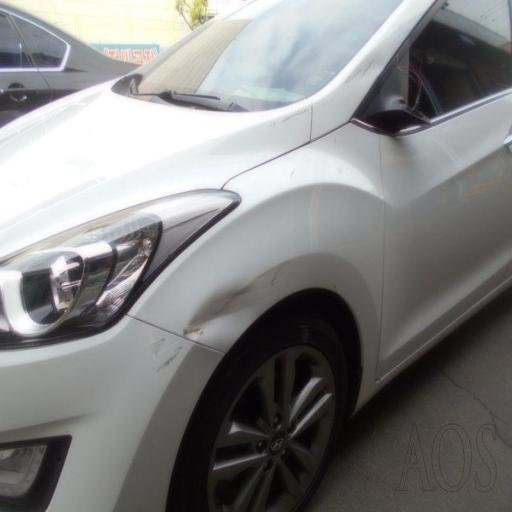broken: (81, 232, 232, 417)
